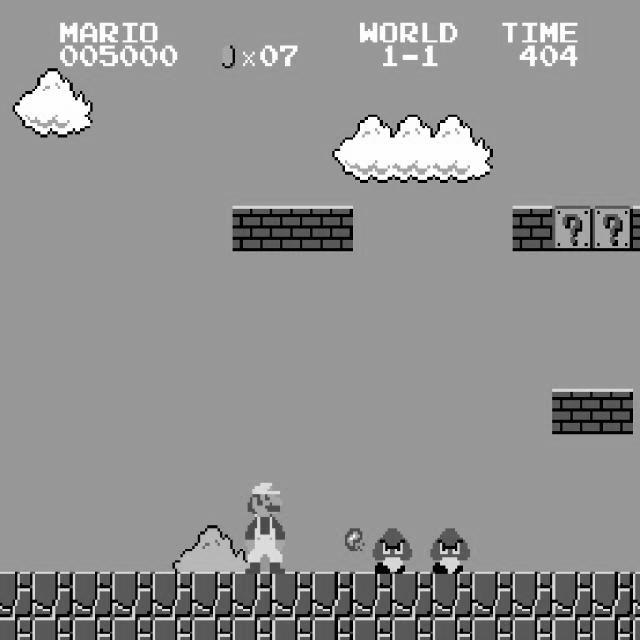1- brick_block: (552, 388, 593, 434), (592, 388, 633, 434), (232, 206, 273, 251), (272, 206, 313, 251), (312, 206, 353, 251), (512, 206, 553, 251), (633, 206, 640, 251)
13- mystery_block: (552, 206, 593, 251), (592, 206, 633, 251)
17- undestructible_block: (32, 572, 73, 618), (72, 572, 113, 618), (112, 572, 153, 618), (152, 572, 193, 618), (192, 572, 233, 618), (232, 572, 273, 618), (272, 572, 313, 618), (312, 572, 353, 618), (352, 572, 393, 618), (392, 572, 433, 618), (432, 572, 473, 618), (472, 572, 513, 618), (512, 572, 553, 618), (552, 572, 593, 618), (592, 572, 633, 618), (0, 571, 32, 617), (32, 617, 73, 640), (72, 617, 113, 640), (112, 617, 153, 640), (152, 617, 193, 640), (192, 617, 233, 640), (232, 617, 273, 640), (272, 617, 313, 640), (312, 617, 353, 640), (352, 617, 393, 640), (392, 617, 433, 640), (432, 617, 473, 640), (472, 617, 513, 640), (512, 617, 553, 640), (552, 617, 593, 640), (592, 617, 633, 640), (0, 617, 32, 639), (633, 572, 640, 618), (633, 617, 640, 640)
4- fire_mario: (242, 480, 286, 574)
5- fireball: (345, 526, 365, 552)
8- goomba: (427, 526, 470, 574), (370, 526, 412, 574)
